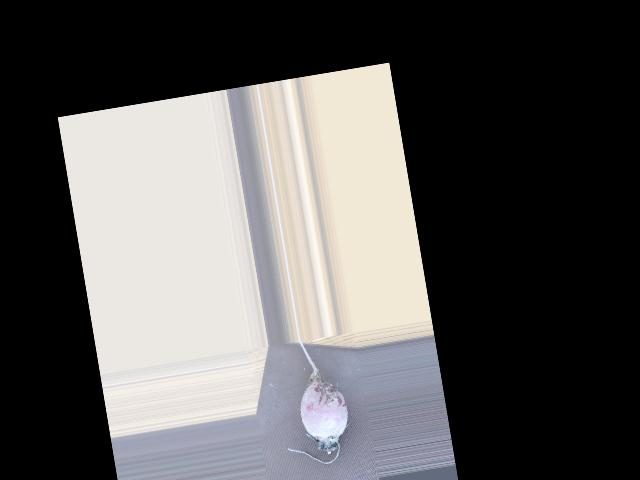beet: (270, 334, 356, 469)
